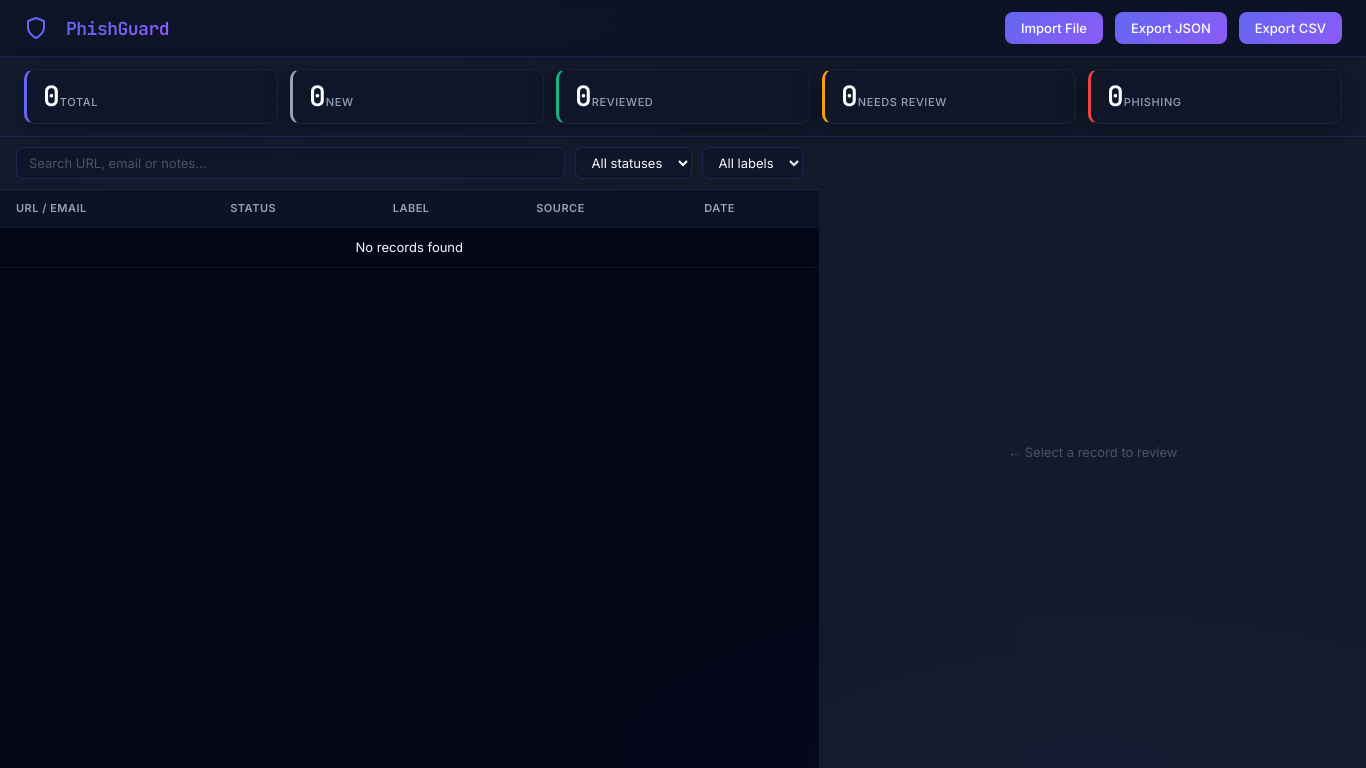
Test: App › handles export error
The image size is (1366, 768).
Expected: the text "PhishGuard" is shown, [66,14,169,42]
Click the button "Export CSV".
click(1290, 28)  # box [1239,12,1342,44]
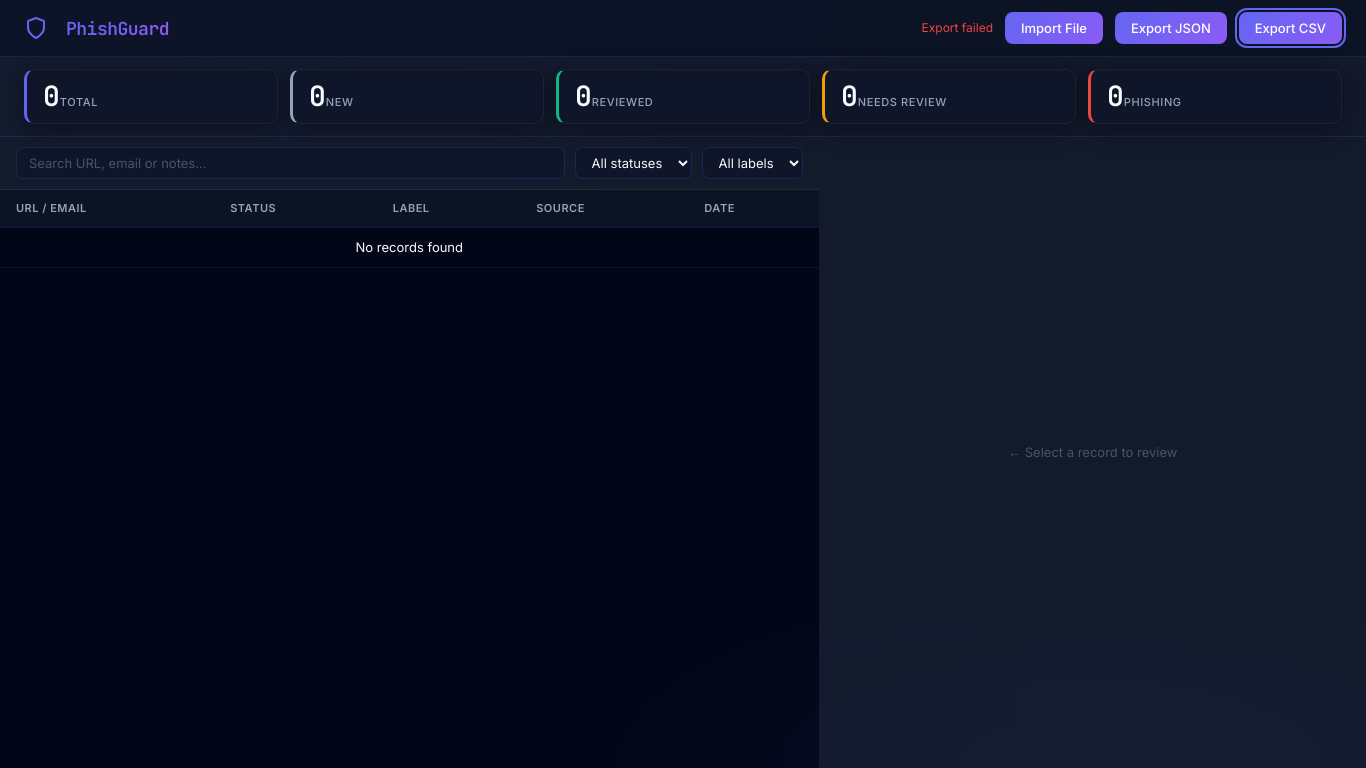
Expected: the text "Export failed" is shown, [922,19,993,37]
